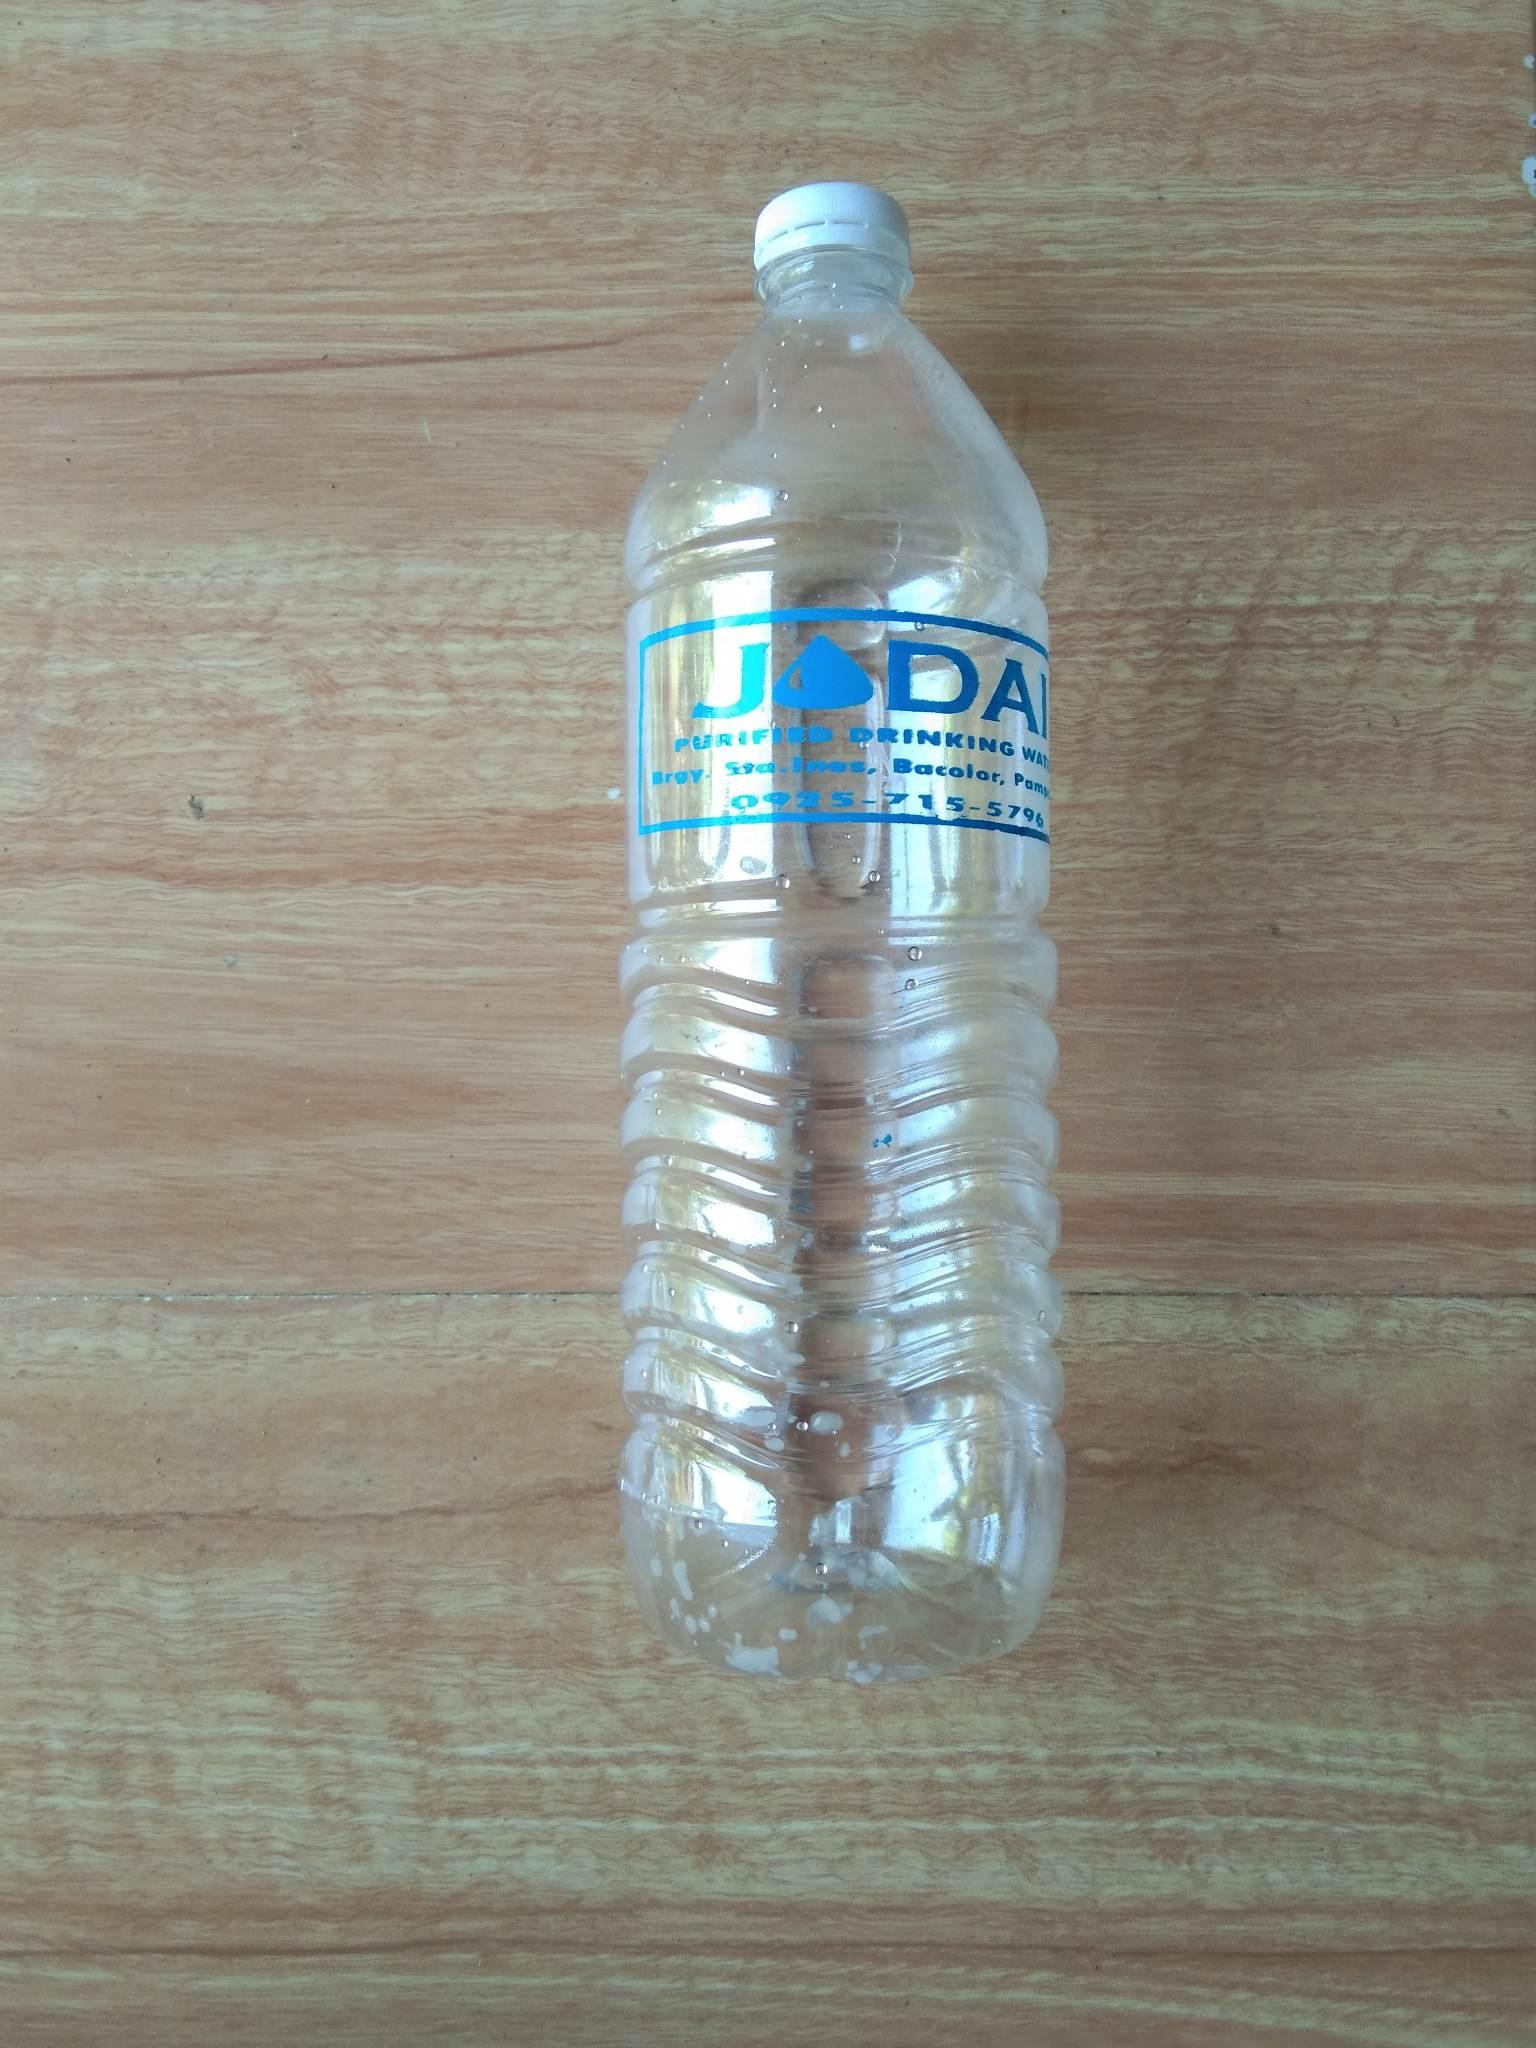plastic: (2, 156, 1534, 1696)
